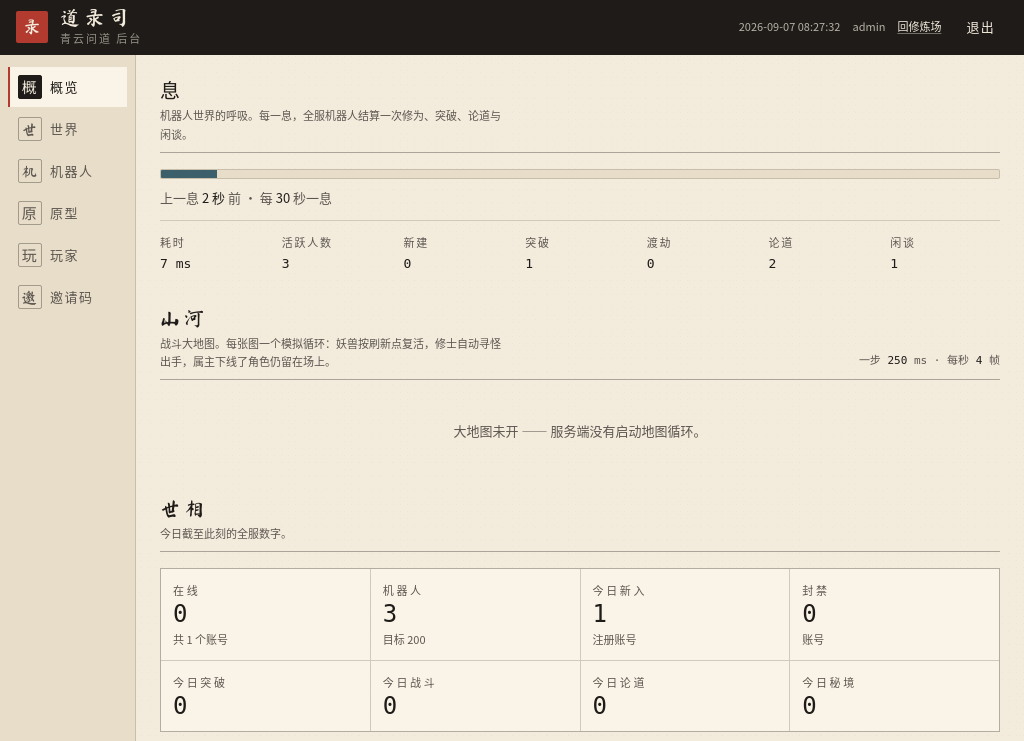
admin panel › steps a number within its declared band and stops at the edges
The width and height of the screenshot is (1024, 741).
What coordinates should you click on to do the following:
click the button "世 世界"
I would click on:
 (68, 129)
Its box is left=8, top=109, right=127, bottom=149.
(page scrolled)
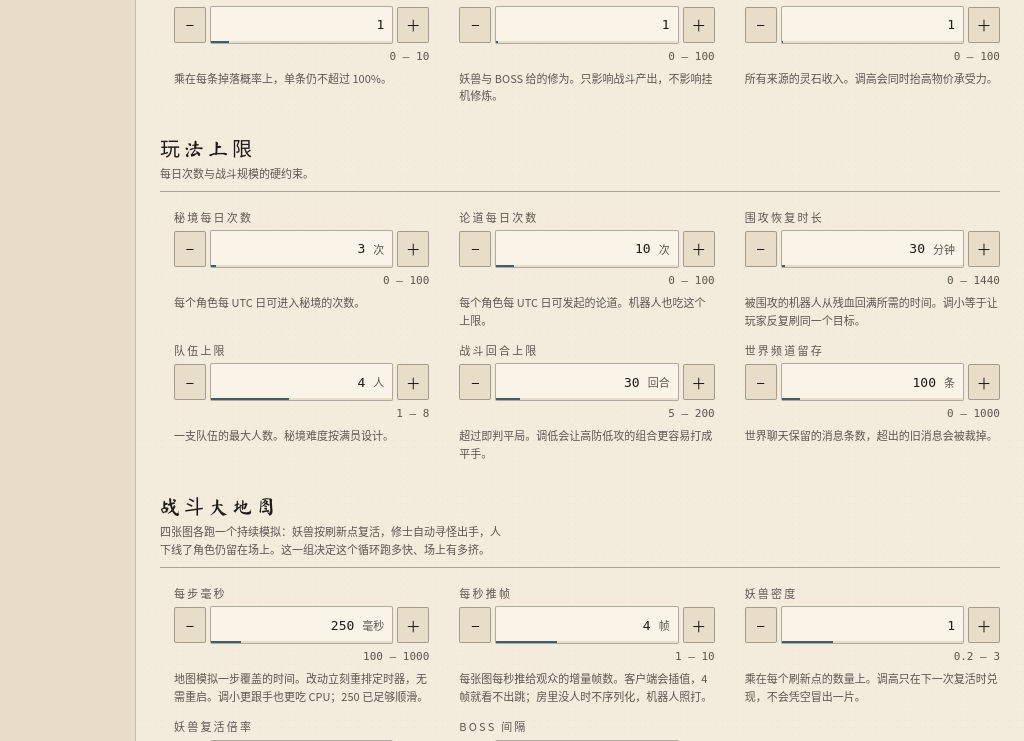
Expected: the number field named "队伍上限" below "队伍上限" holds "4", left=211, top=364, right=373, bottom=400
What coordinates should you click on to do the following:
click the button named "队伍上限 加 1"
I would click on:
 (413, 382)
Its box is left=397, top=364, right=429, bottom=400.
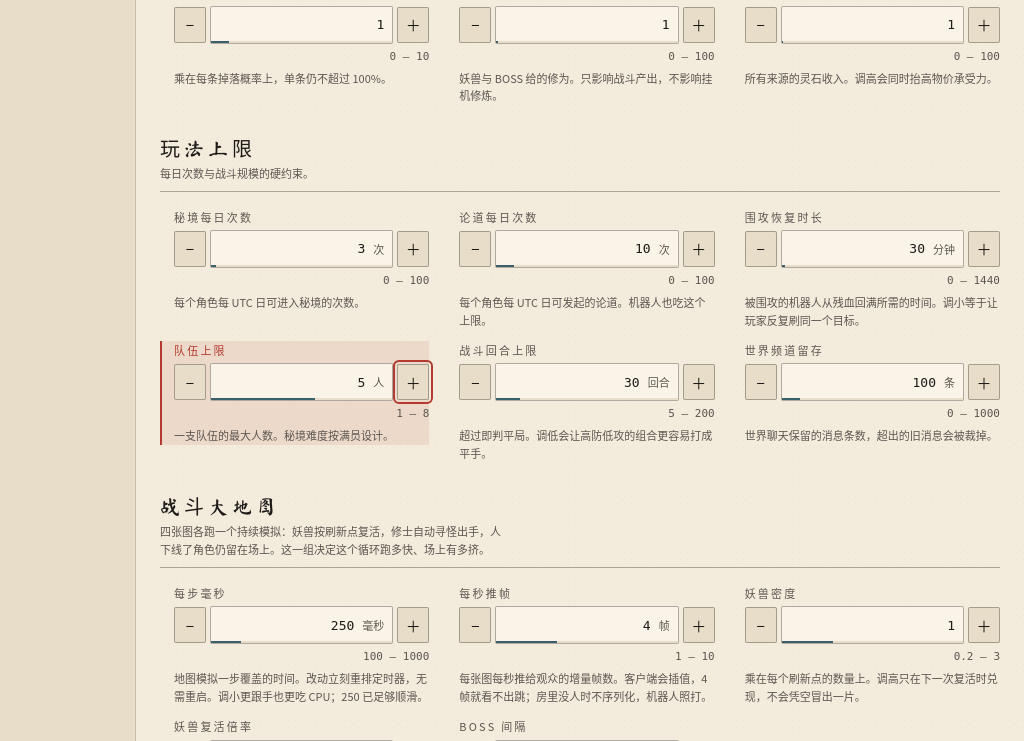
Expected: the 7th number field named "队伍上限" holds "5", left=211, top=364, right=373, bottom=400
What coordinates should you click on to do the following:
click the button named "队伍上限 加 1"
I would click on:
 (413, 382)
Its box is left=397, top=364, right=429, bottom=400.
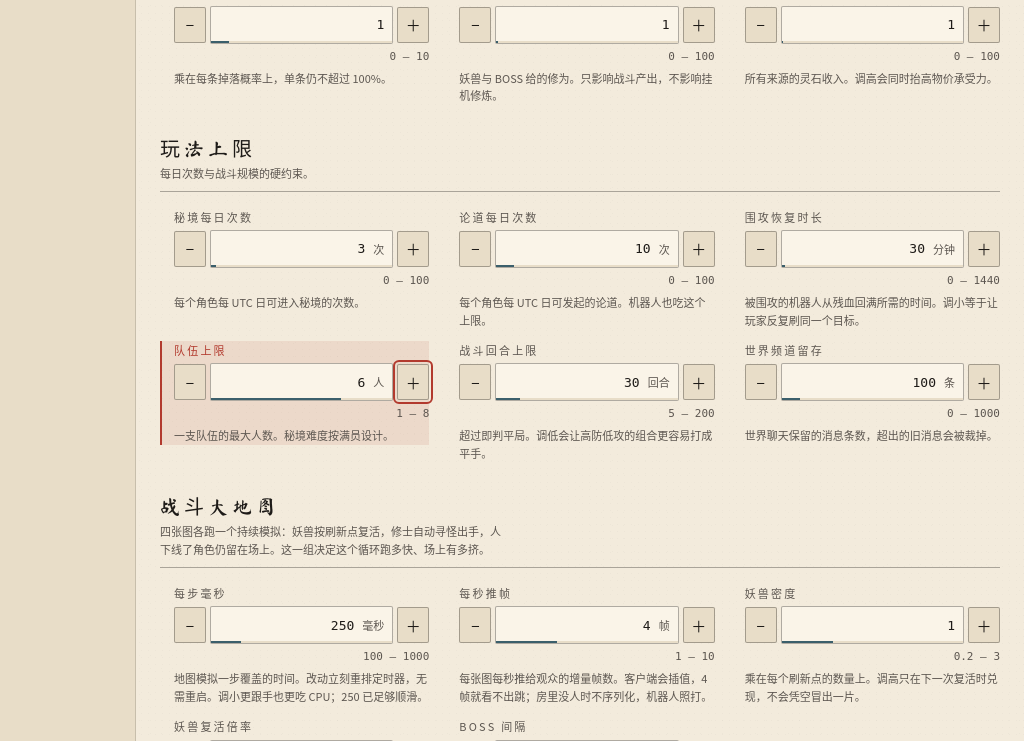
What coordinates should you click on to do the following:
click the button named "队伍上限 加 1"
I would click on:
 (413, 382)
Its box is left=397, top=364, right=429, bottom=400.
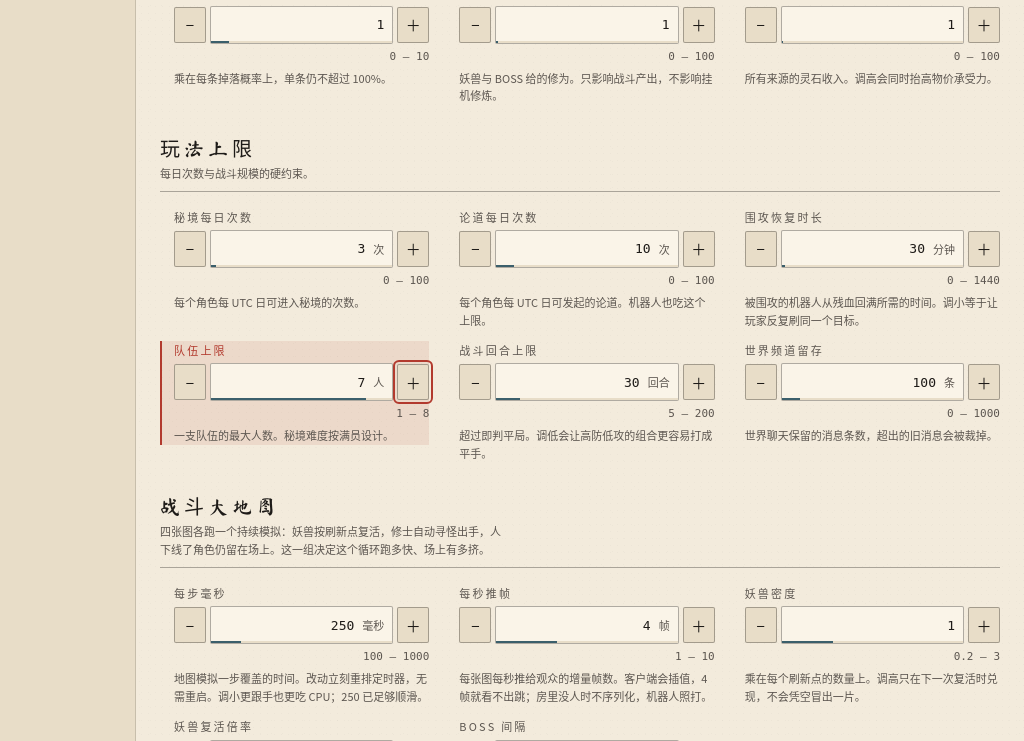
What coordinates should you click on to do the following:
click the button named "队伍上限 加 1"
I would click on:
 (413, 382)
Its box is left=397, top=364, right=429, bottom=400.
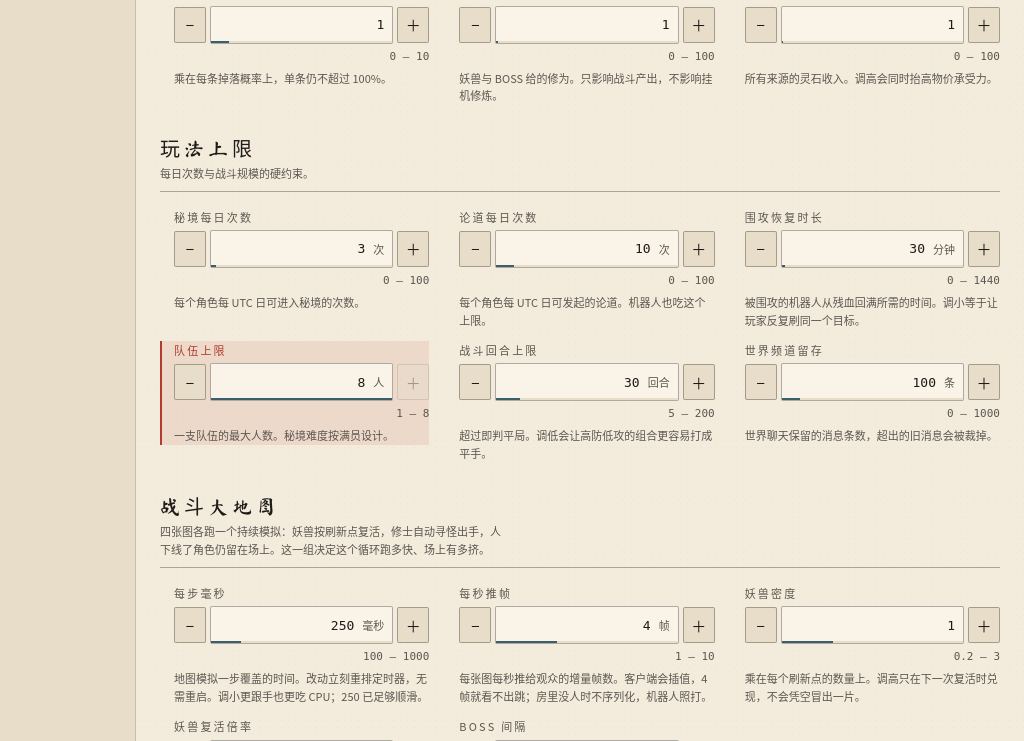
Expected: the 7th number field named "队伍上限" holds "8", left=211, top=364, right=373, bottom=400
Expected: the button named "队伍上限 加 1" is disabled, left=397, top=364, right=429, bottom=400
